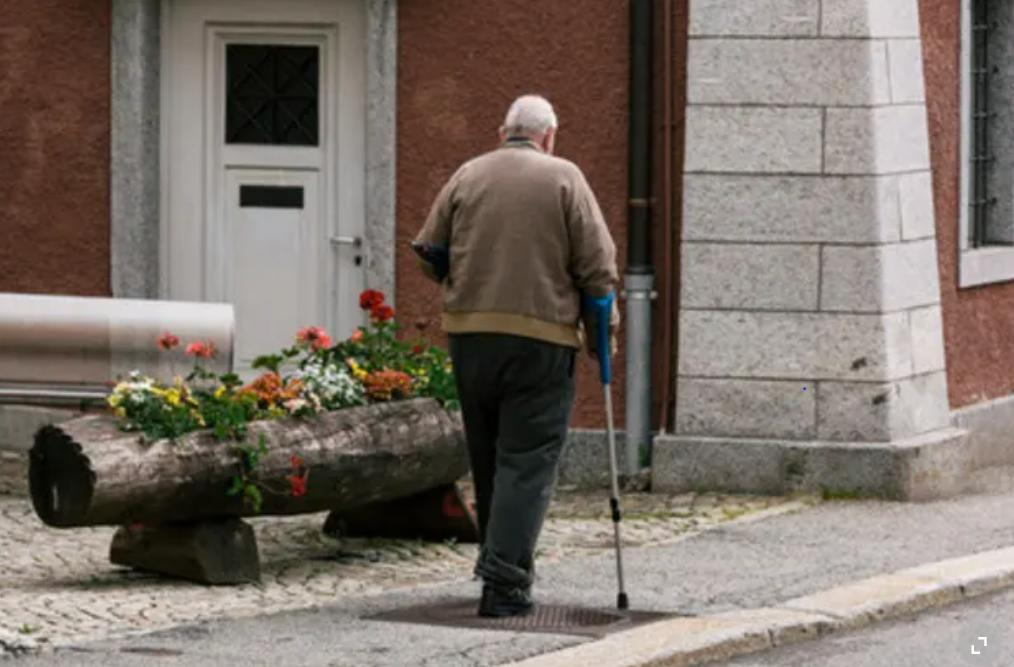crutches: (409, 93, 629, 618)
